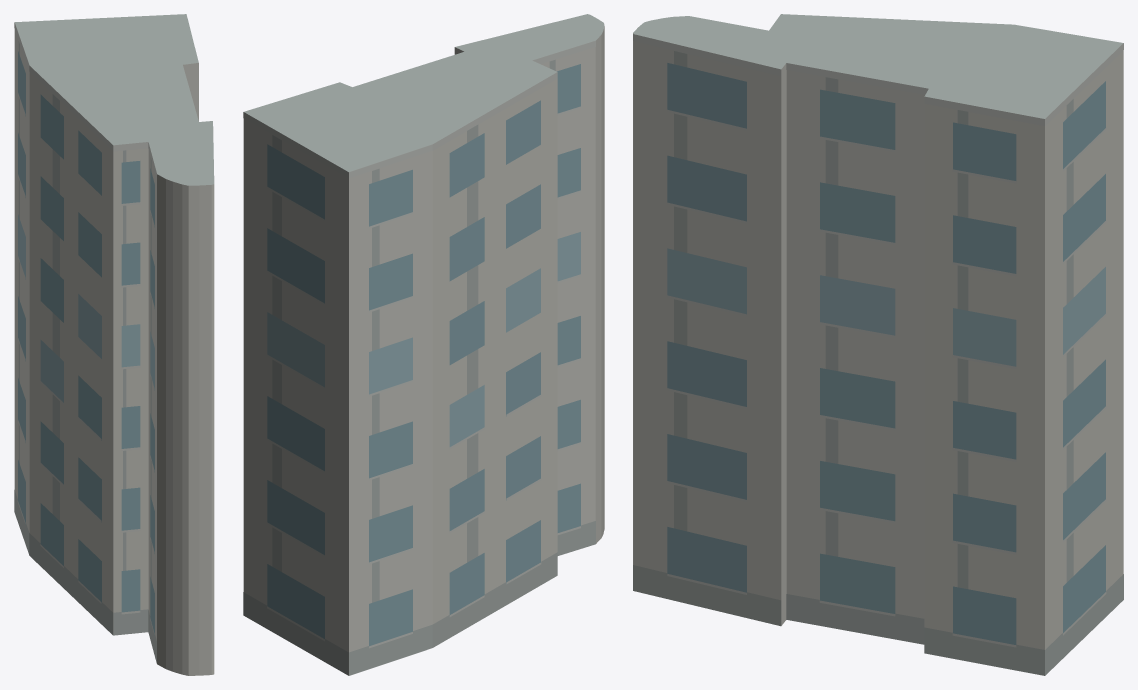
Rendered from survey-upis-32679406.glb.
3 views of the same model, side by side, from view 1: azimuth 30°, elevation 25°; view 2: azimuth 150°, elevation 25°; view 3: azimuth 270°, elevation 25° (orthographic). The views are drawn at different scales.
Visible parts, largest first — view 1: survey-upis-32679406.tmp; view 2: survey-upis-32679406.tmp; view 3: survey-upis-32679406.tmp.
Part boxes in pixels (x1,y1,x2,y2): survey-upis-32679406.tmp: [14, 14, 214, 675]; survey-upis-32679406.tmp: [243, 14, 604, 675]; survey-upis-32679406.tmp: [633, 14, 1123, 675].
Bounding box in the file's own units: 7.74 × 19.1 × 15.26.
